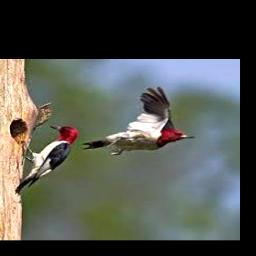Woodpecker: (82, 87, 195, 155), (15, 125, 80, 194)
